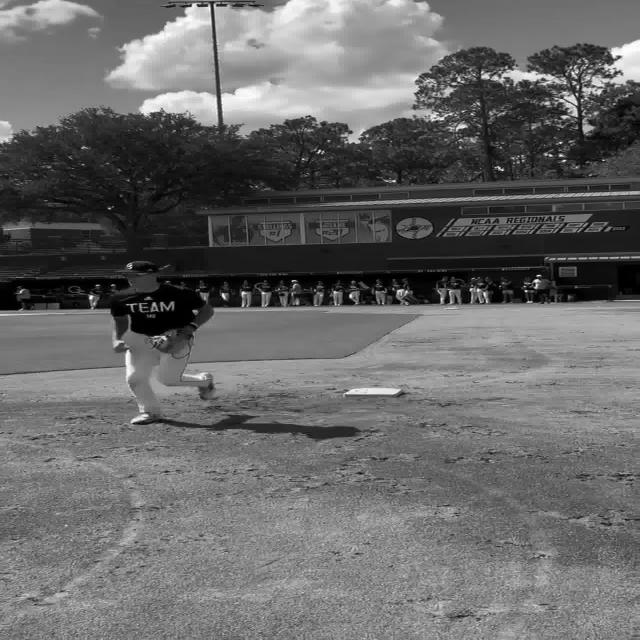base: (345, 388, 405, 396)
baseball_glove: (149, 324, 196, 354)
shoe: (198, 372, 218, 400), (131, 412, 164, 425)
